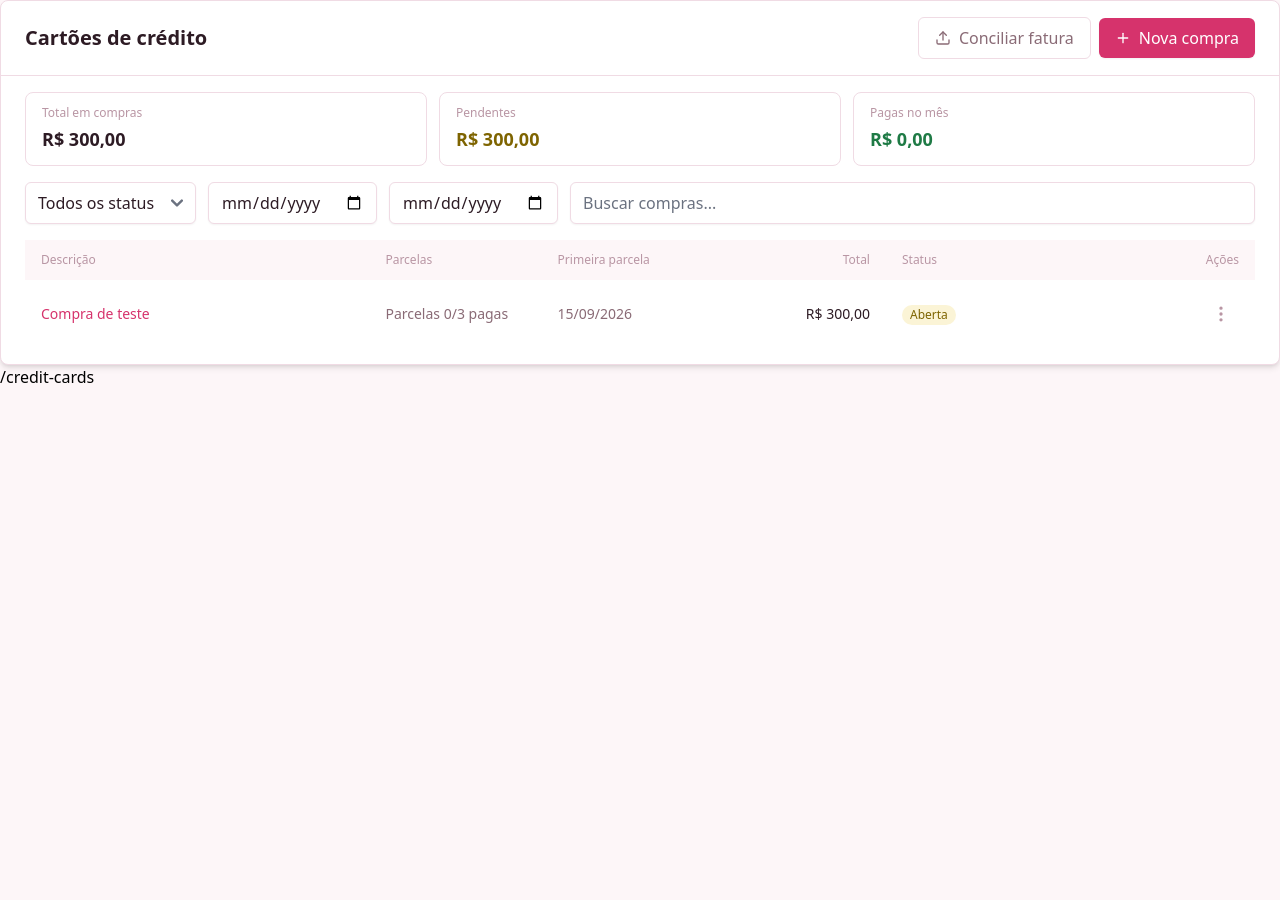
Scenario: CreditCardsPage › opens the bill detail with the installment list when a row is clicked
Click the button "Compra de teste": (95, 314) [41,304,150,324]
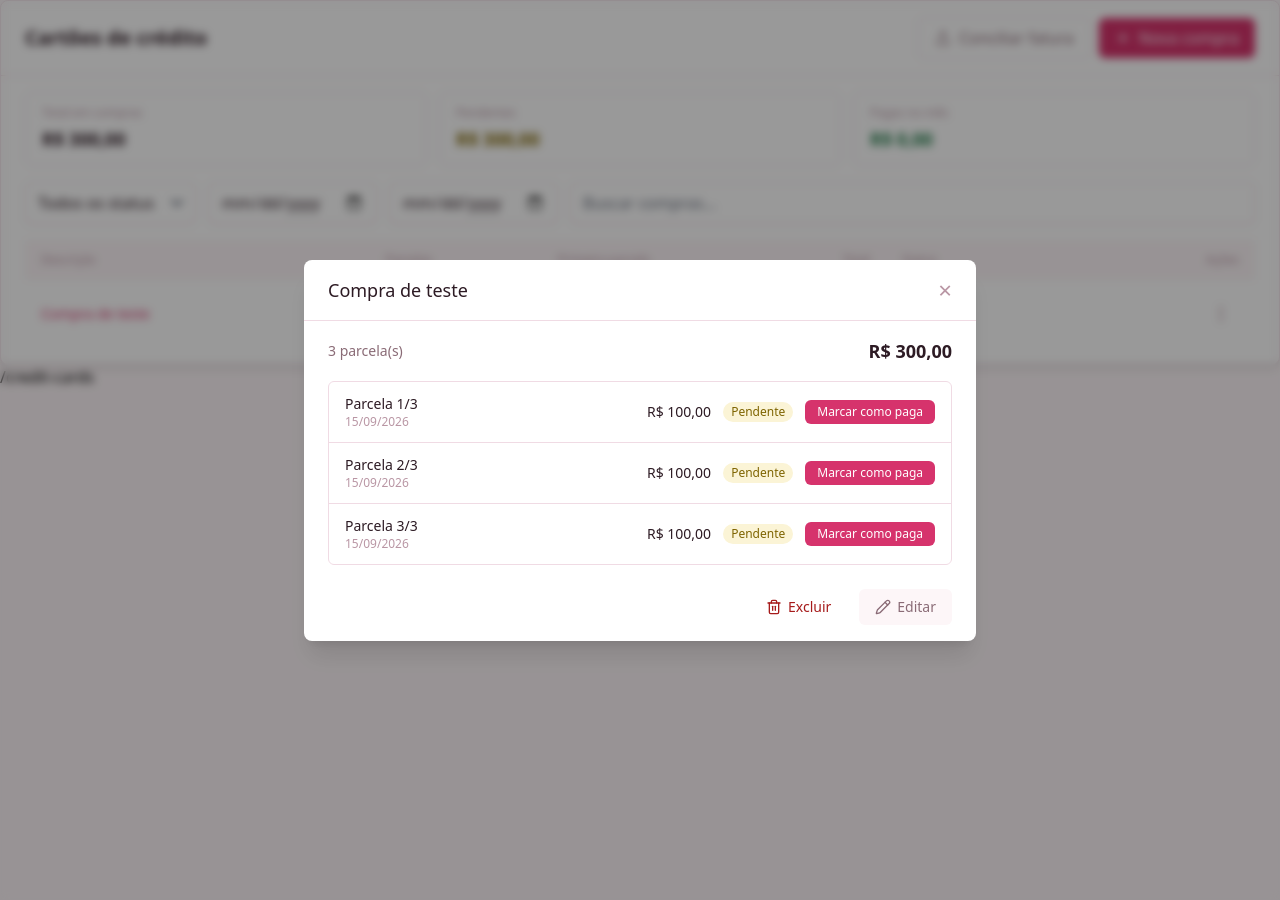
Result: the list item with test id "installment-inst-1" shows "Parcela 1/3" at [345,394,418,412]
Result: the list item with test id "installment-inst-2" is shown at [329,442,951,502]
Result: the list item with test id "installment-inst-3" is shown at [329,502,951,564]
